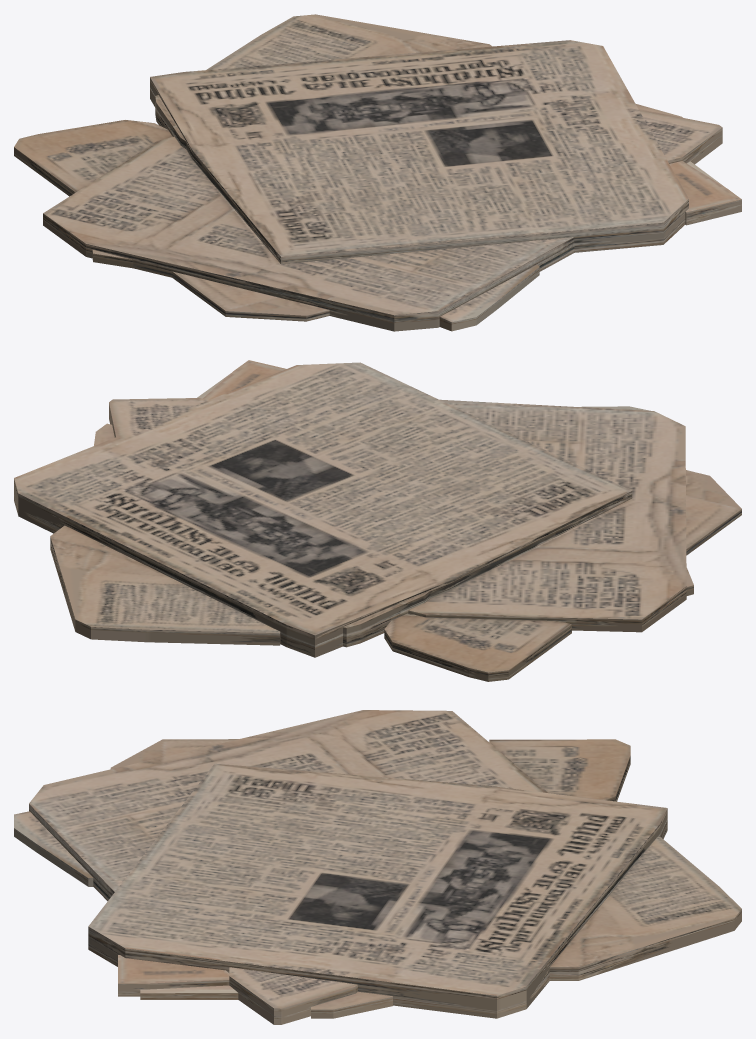
File: Newspaper.fbx
3 renders of one model, top to bottom at view 1: azimuth 30°, elevation 25°; view 2: azimuth 150°, elevation 25°; view 3: azimuth 270°, elevation 25°, orthographic. The views are drawn at different scales.
Visible parts, largest first — view 1: Newspaper_Low; view 2: Newspaper_Low; view 3: Newspaper_Low.
Boxes of the visible parts, x1=… form: Newspaper_Low: x1=14, y1=14, x2=741, y2=331; Newspaper_Low: x1=14, y1=360, x2=741, y2=681; Newspaper_Low: x1=14, y1=710, x2=741, y2=1024.
Bounding box in the file's own units: 0.9685 × 0.0347 × 0.9887.
